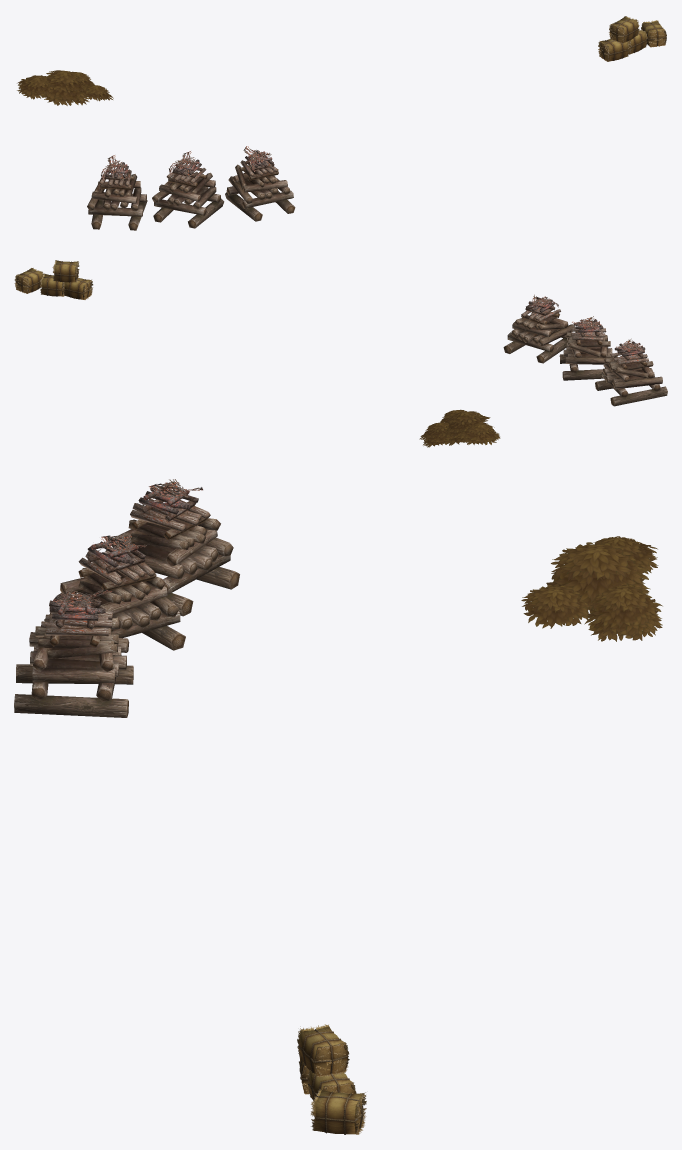
Rendered from yanshi17_wujian1_1.fbx.
3 views of the same model, one above another, from view 1: azimuth 30°, elevation 25°; view 2: azimuth 150°, elevation 25°; view 3: azimuth 270°, elevation 25° (orthographic). The views are drawn at different scales.
Parts seen in each view (by area): view 1: yanshi17_wujian1_1; view 2: yanshi17_wujian1_1; view 3: yanshi17_wujian1_1.
Boxes of the visible parts, <box> form: yanshi17_wujian1_1: <box>17,16,666,230</box>; yanshi17_wujian1_1: <box>14,260,667,447</box>; yanshi17_wujian1_1: <box>14,479,662,1134</box>.
Bounding box in the file's own units: 6301 × 521 × 2996.
